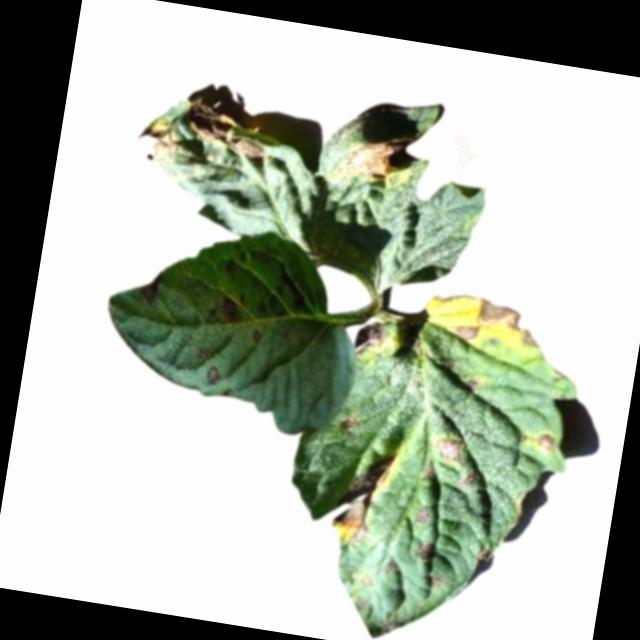Early_blight: (452, 292, 548, 359), (180, 97, 273, 161), (337, 129, 411, 188), (132, 114, 184, 164), (351, 316, 393, 358), (436, 435, 467, 461), (411, 537, 437, 559), (534, 430, 561, 451), (423, 570, 451, 590), (201, 360, 221, 384), (382, 557, 401, 576), (422, 460, 437, 481), (464, 376, 483, 392), (462, 468, 479, 485), (416, 504, 431, 522), (341, 413, 354, 430)
